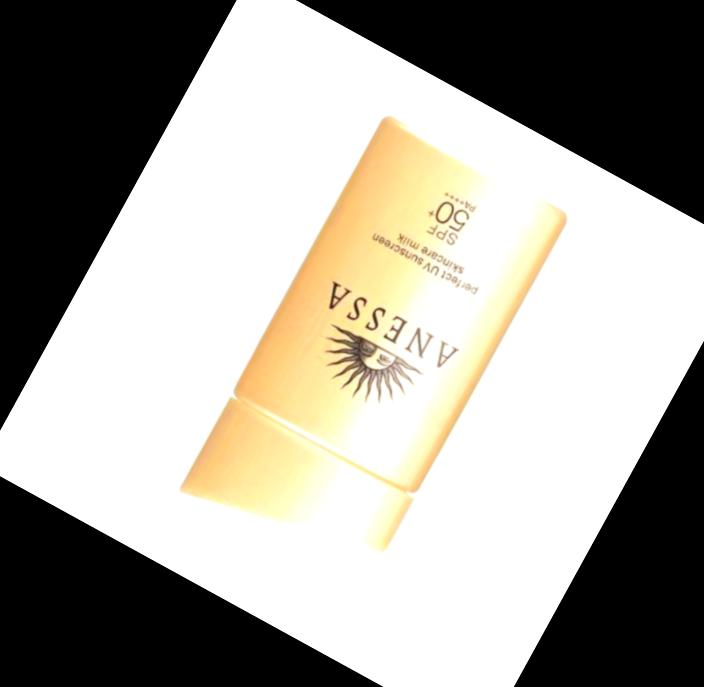cosmetic: (173, 116, 566, 595)
